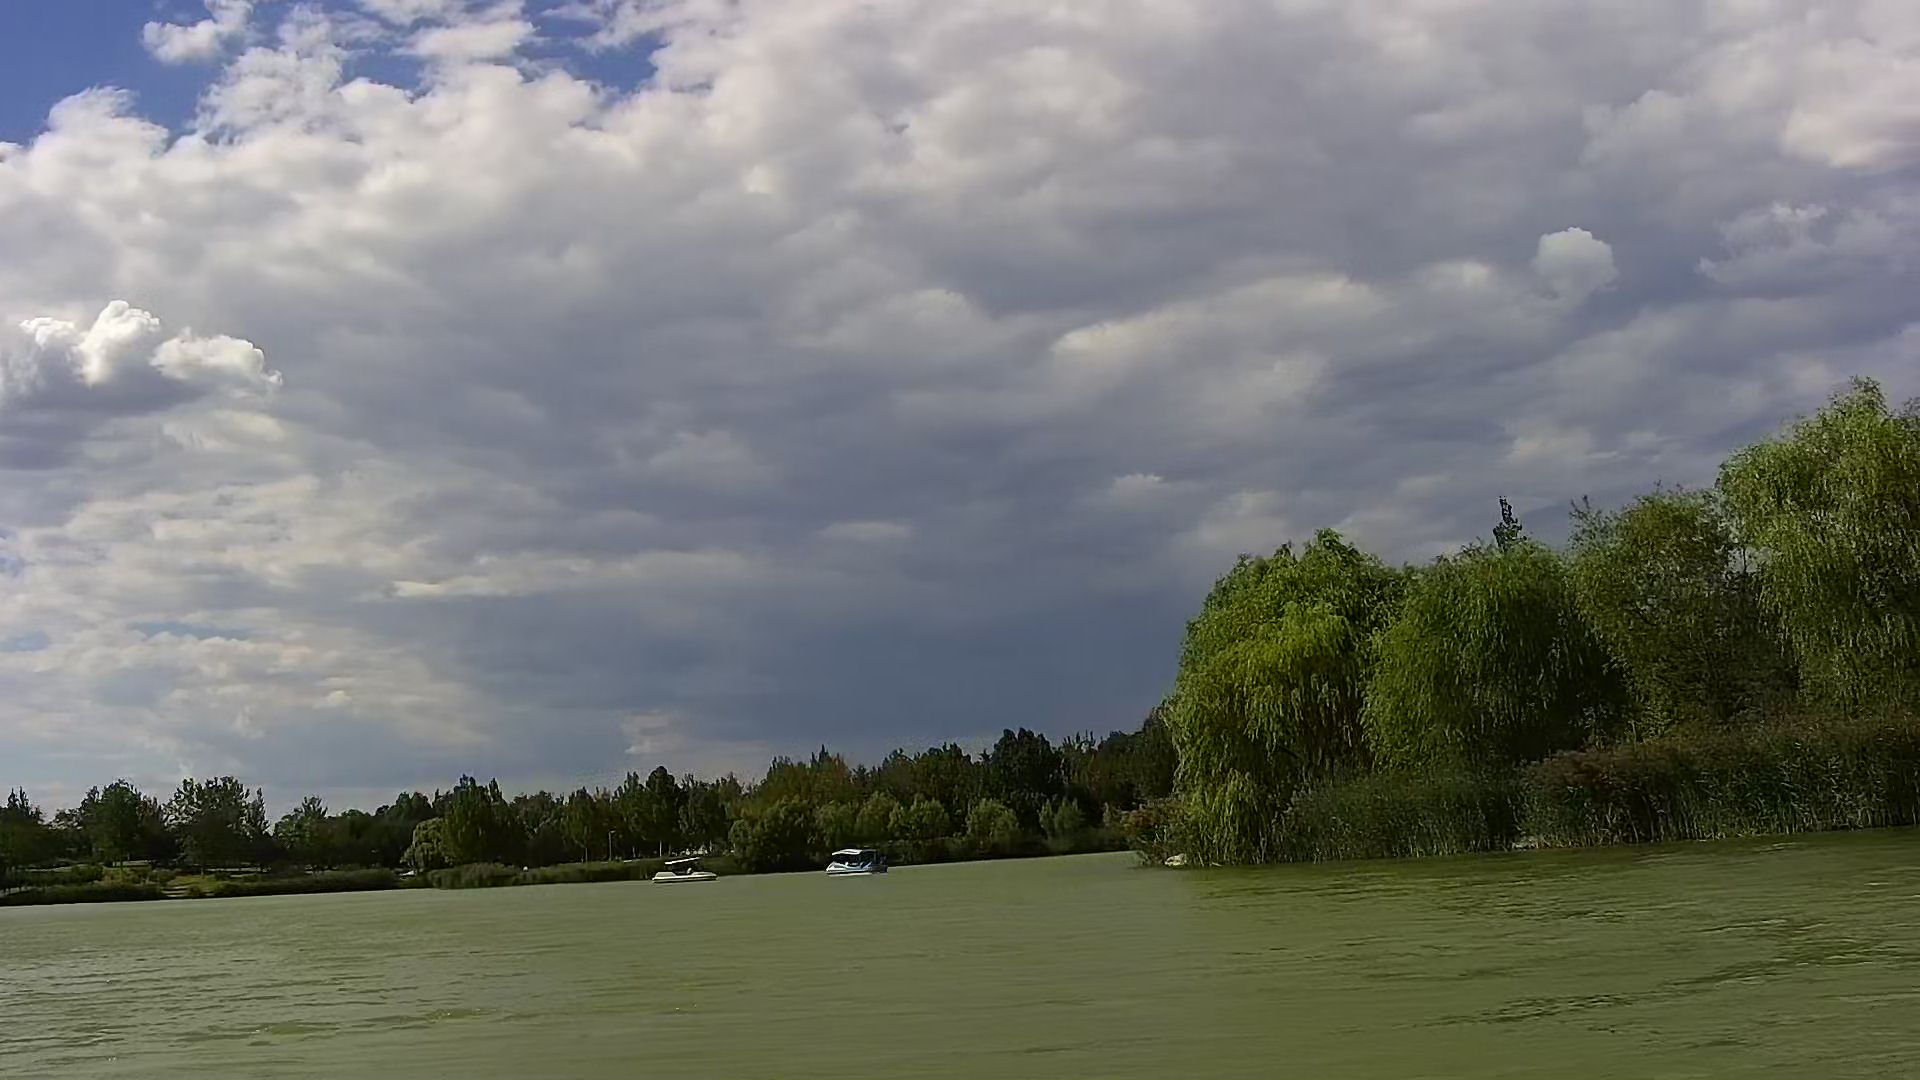boat: (647, 855, 703, 882), (823, 849, 881, 876)
rock: (1167, 852, 1201, 869)
